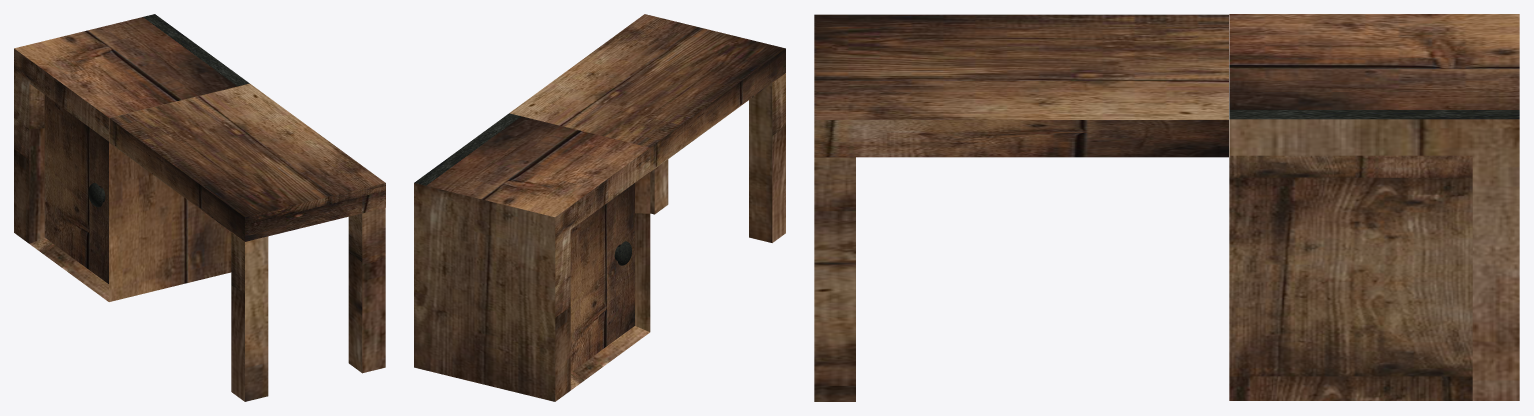
The model's file is field-desk.FBX.
3 views of the same model, side by side, from view 1: azimuth 30°, elevation 25°; view 2: azimuth 150°, elevation 25°; view 3: azimuth 270°, elevation 25° (orthographic). The views are drawn at different scales.
Parts seen in each view (by area): view 1: Box001; view 2: Box001; view 3: Box001.
Part boxes in pixels (<box>): Box001: <box>14,14,385,401</box>; Box001: <box>414,14,785,401</box>; Box001: <box>814,14,1519,401</box>.
Size of the model in its own units: 21.3 by 26.63 by 60.25.
Materials: 1 (1 with a texture image).
